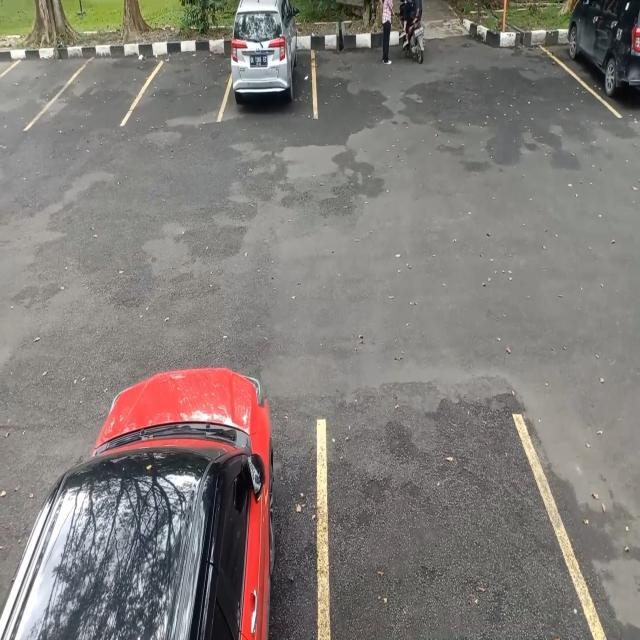empty: (142, 29, 231, 132), (61, 36, 148, 130), (1, 34, 62, 130)
occupied: (225, 0, 318, 115)
